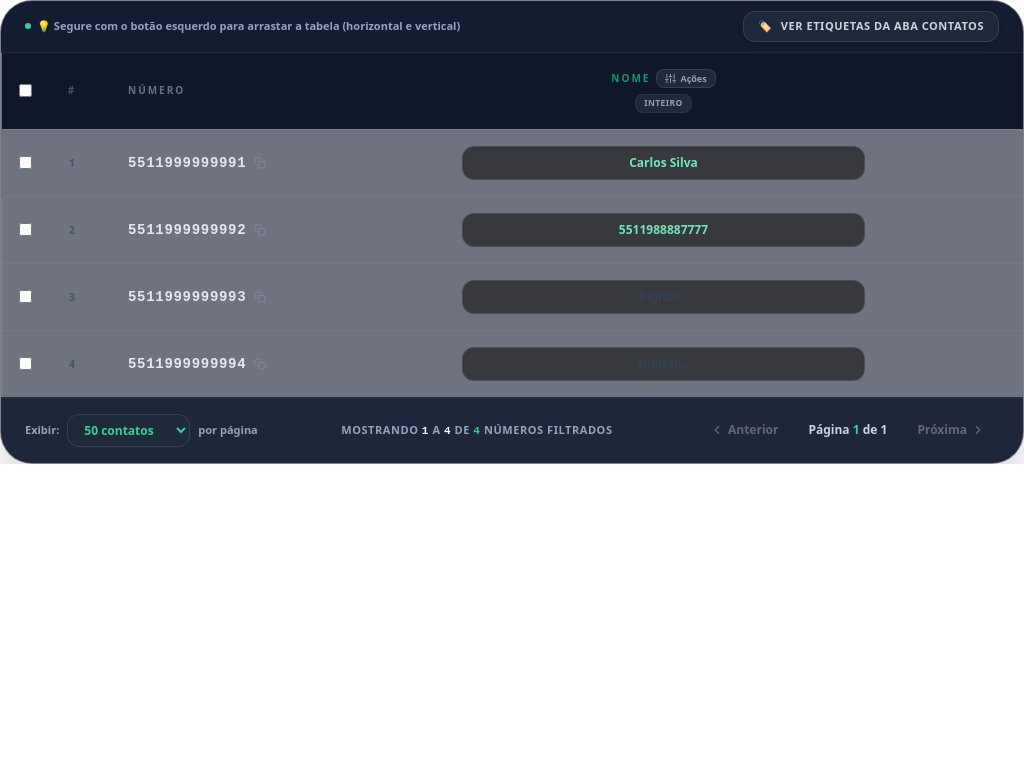
Test: ContactTable - Cópia de Telefone e Gerenciamento de Variáveis › Modal de Ações e Filtro de Variáveis › deve abrir o modal de ações da variável ao clicar no botão Ações do cabeçalho
The image size is (1024, 768).
Click the button "Ações" at (686, 78), box [656, 68, 716, 88]
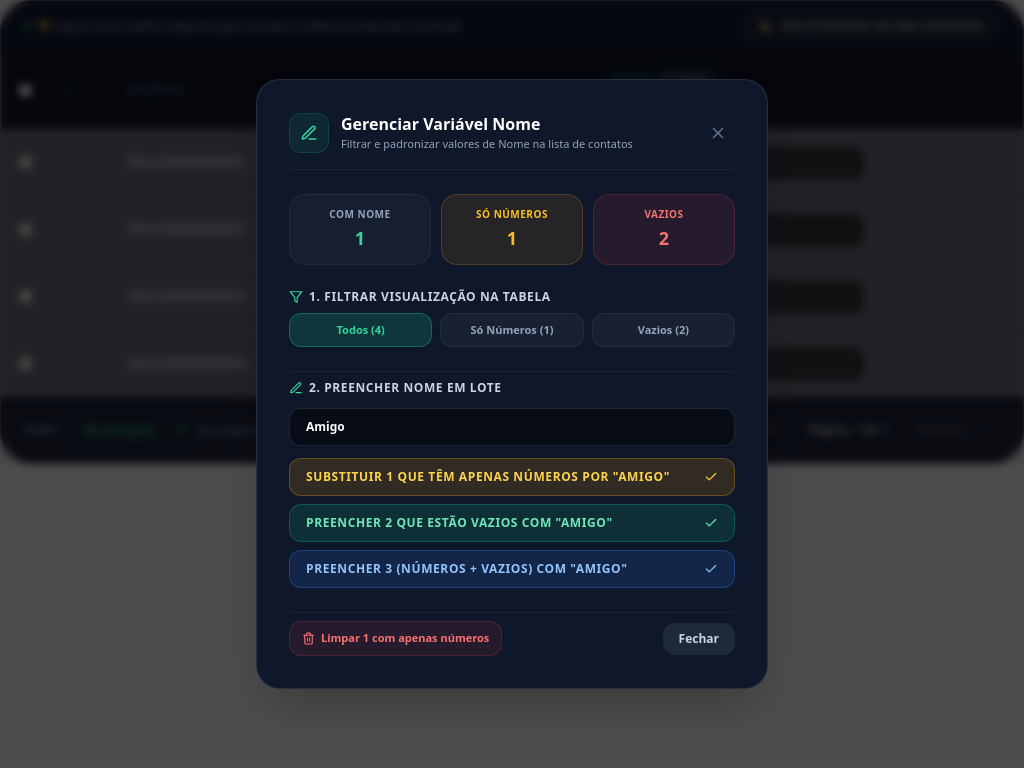
Now the heading "Gerenciar Variável Nome" is shown, box [341, 113, 540, 135]
Now the text "1. Filtrar Visualização na Tabela" is shown, box [289, 288, 551, 305]
Now the text "2. Preencher Nome em Lote" is shown, box [289, 379, 502, 396]
